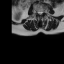CCS_stenosis: (39, 9, 40, 16)
LFS_normal: (42, 9, 44, 14)
LLS_normal: (40, 10, 42, 15)
RFS_normal: (35, 9, 37, 14)
RLS_normal: (37, 10, 39, 15)
